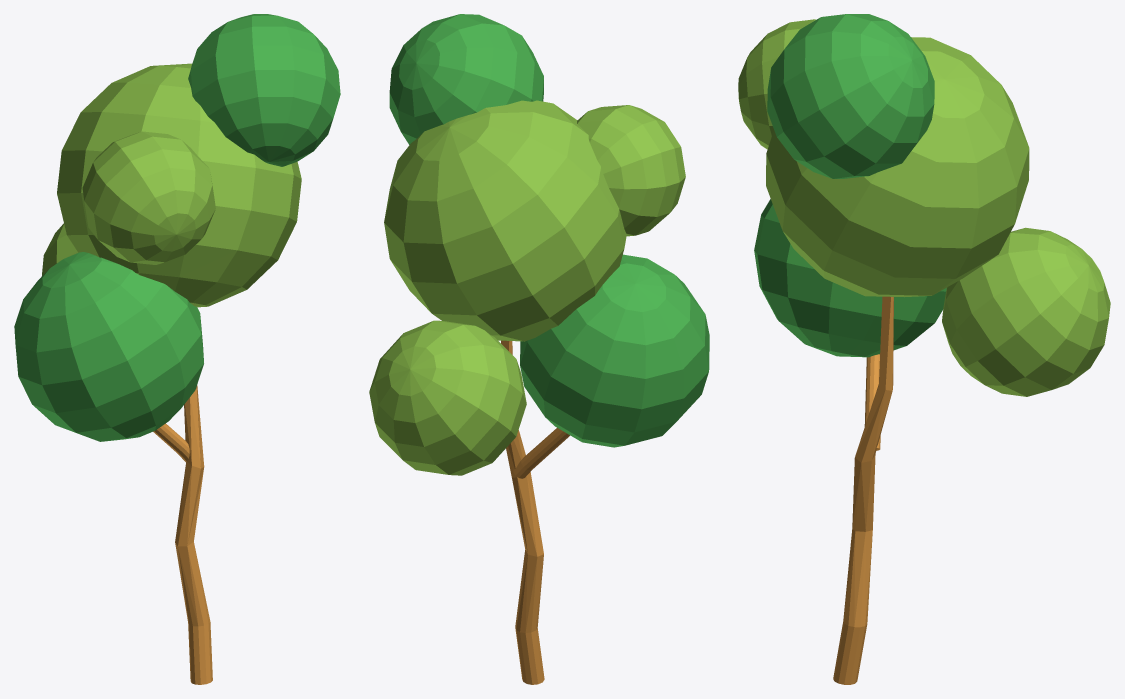
File: group1691027391_lev3.glb
The picture shows the model from 3 angles, left to right: view 1: azimuth 30°, elevation 25°; view 2: azimuth 150°, elevation 25°; view 3: azimuth 270°, elevation 25°; orthographic projection. The views are drawn at different scales.
Visible parts, largest first — view 1: group1691027391_lev3; view 2: group1691027391_lev3; view 3: group1691027391_lev3.
Part boxes in pixels (x1,y1,x2,y2): group1691027391_lev3: (14,14,340,684); group1691027391_lev3: (369,14,709,684); group1691027391_lev3: (738,14,1110,684).
Size of the model in its own units: 2.78 by 5.7 by 2.77.
